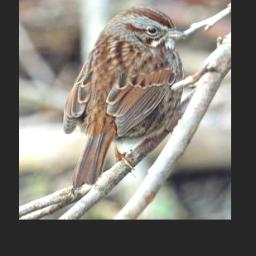Sparrow: (61, 6, 189, 188)
